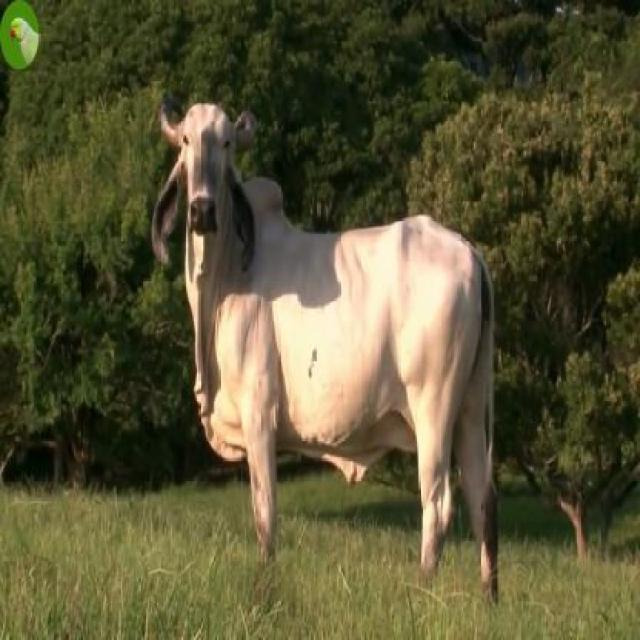Cow: (151, 94, 503, 598)
